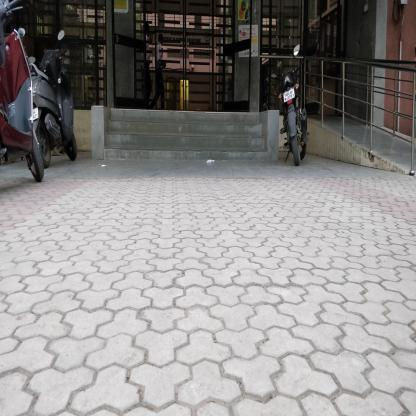stairs: (121, 109, 257, 169)
